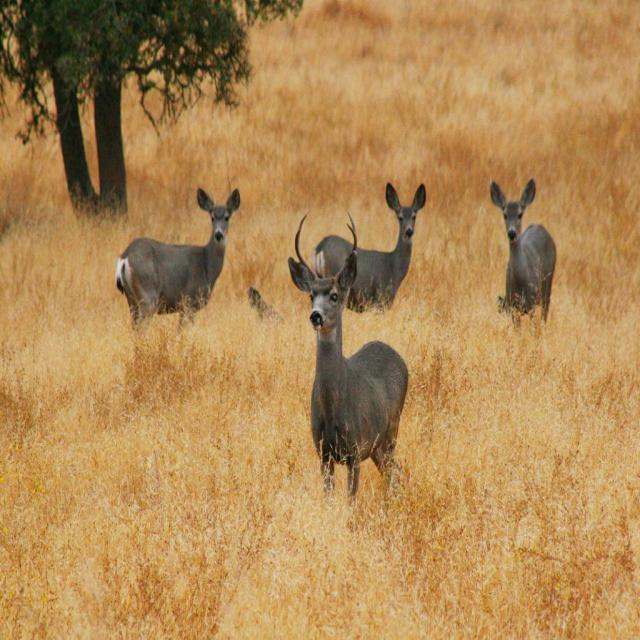Deer: (288, 212, 411, 508), (115, 189, 241, 328), (313, 183, 423, 313), (489, 178, 558, 333)
